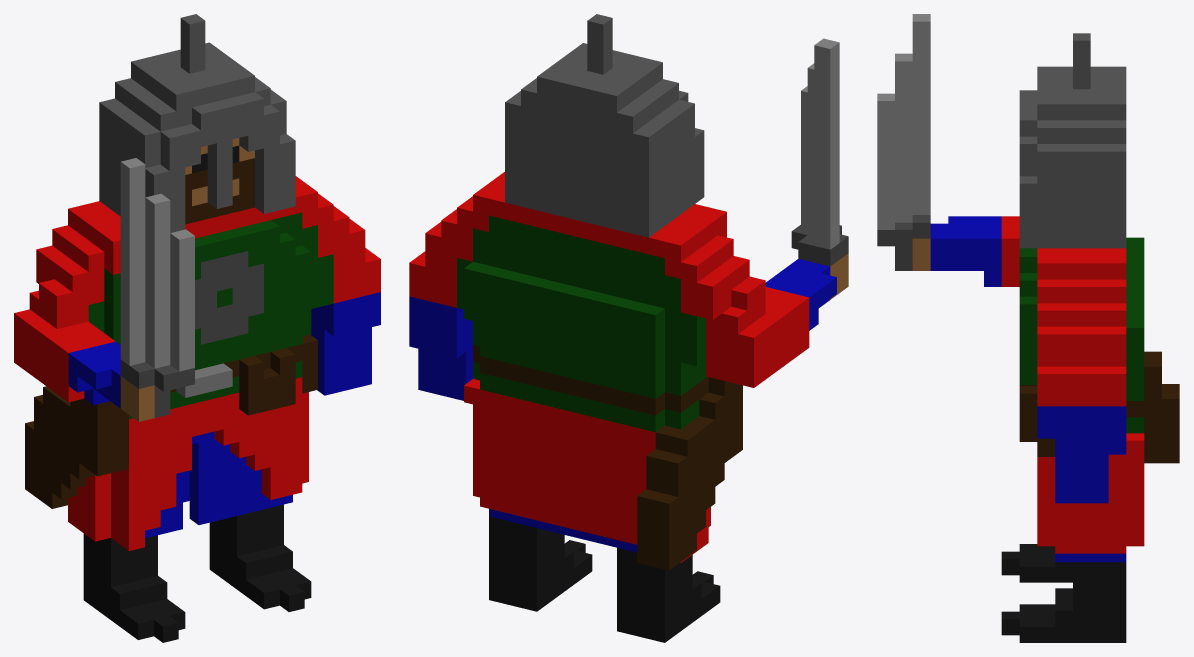
Rendered from warior s mechom.obj.
3 renders of one model, left to right at view 1: azimuth 30°, elevation 25°; view 2: azimuth 150°, elevation 25°; view 3: azimuth 270°, elevation 25°, orthographic. The views are drawn at different scales.
Bounding box in the file's own units: 2.1 × 3.5 × 1.7.
Materials: 1 (1 with a texture image).
